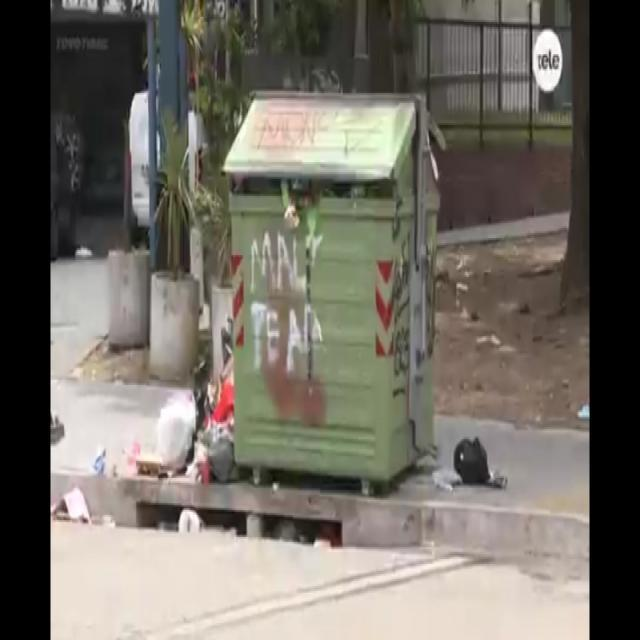garbage: (51, 368, 251, 537), (432, 412, 506, 496), (245, 182, 374, 228)
